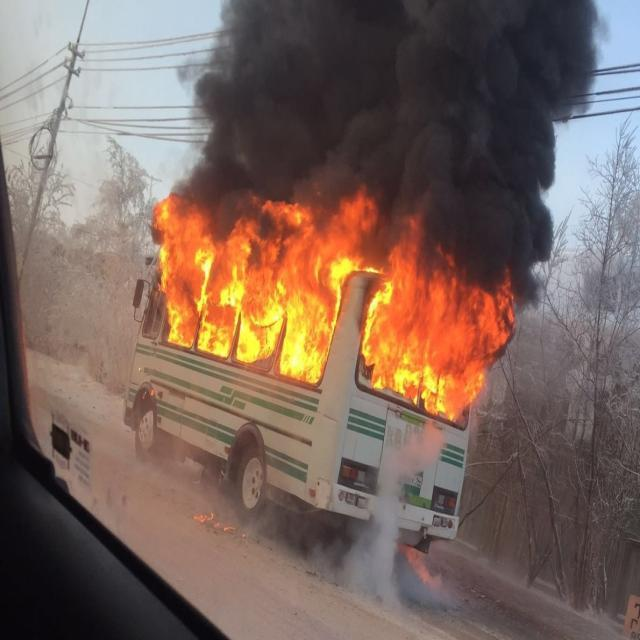Fire: (152, 182, 376, 390), (361, 228, 513, 418)
Smoke: (162, 0, 607, 295), (326, 422, 468, 610)
